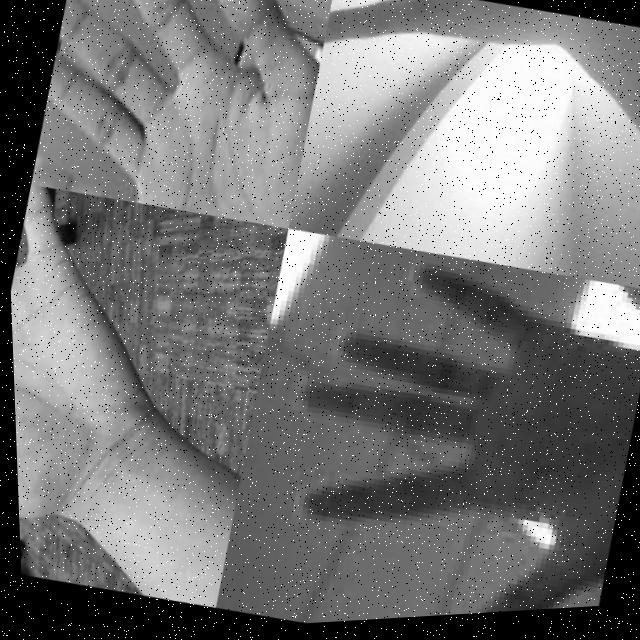hand: (230, 227, 640, 630), (22, 0, 342, 243), (5, 177, 189, 563), (318, 0, 601, 113)
